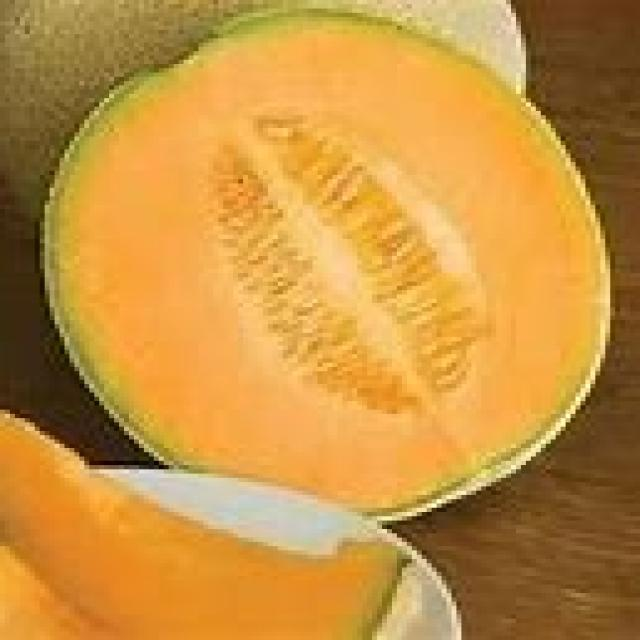Hami Melon: (45, 3, 613, 518)
